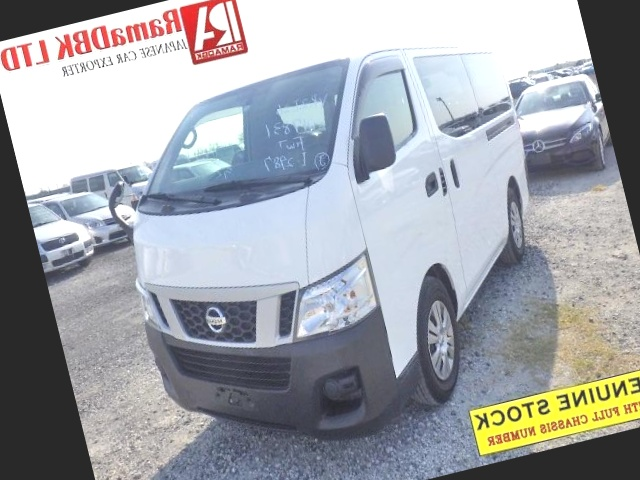van: (90, 21, 580, 449)
